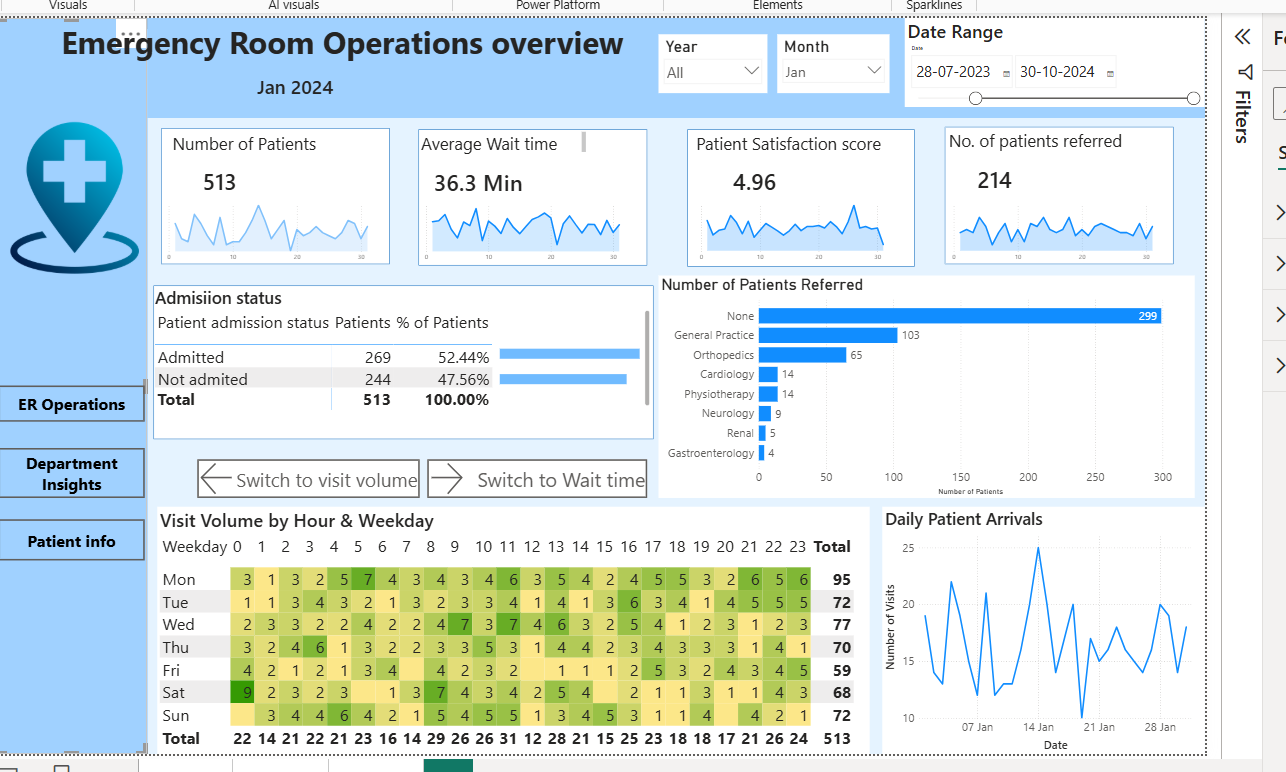

The dashboard page shown, as its layout file describes it:
{"tool":"powerbi","page":{"name":"Page 1","canvas":[2300,1400],"ordinal":0},"visuals":[{"type":"shape","title":"Number of Patients","box":[313.9,209.2,435.1,259.2],"z":0},{"type":"shape","box":[0,0,288.5,1400],"z":1000},{"type":"shape","box":[287.7,0,2013.9,190.2],"z":2000},{"type":"textbox","box":[118.9,0,1141.3,95.1],"z":3000},{"type":"card","fields":{"Values":["Hospital ER_Data.Number of Patients"]},"box":[330.5,249.7,190.2,121.3],"z":4000},{"type":"textbox","box":[330.5,211.6,340,66.6],"z":5000},{"type":"areaChart","fields":{"Y":["Count(Hospital ER_Data.Patient Id)"],"Category":["Date table.Date.Variation.Date Hierarchy.Day"]},"box":[313.9,342.4,456.5,130.8],"z":6000},{"type":"slicer","fields":{"Values":["Date table.Month"]},"box":[1486.1,30.9,214,111.8],"z":7000},{"type":"slicer","fields":{"Values":["Date table.Year"]},"box":[1260.2,30.9,206.9,111.8],"z":8000},{"type":"shape","title":"Number of Patients","box":[803.7,211.6,435.1,259.2],"z":9000},{"type":"shape","title":"Number of Patients","box":[1314.9,211.6,432.7,261.6],"z":10000},{"type":"shape","title":"Number of Patients","box":[1804.7,206.9,435.1,261.6],"z":11000},{"type":"textbox","box":[803.7,211.6,323.4,66.6],"z":12000},{"type":"card","fields":{"Values":["Hospital ER_Data.Average wait time"]},"box":[806.1,268.7,223.5,88],"z":13000},{"type":"areaChart","fields":{"Category":["Date table.Date.Variation.Date Hierarchy.Day"],"Y":["Avg(Hospital ER_Data.Patient Waittime)"]},"box":[803.7,342.4,444.6,130.8],"z":14000},{"type":"card","fields":{"Values":["Avg(Hospital ER_Data.Patient Satisfaction Score)"]},"box":[1348.2,249.7,190.2,121.3],"z":15000},{"type":"card","fields":{"Values":["Hospital ER_Data.no of patients referred"]},"box":[1804.7,244.9,190.2,121.3],"z":16000},{"type":"areaChart","fields":{"Category":["Date table.Date.Variation.Date Hierarchy.Day"],"Y":["Hospital ER_Data.no of patients referred"]},"box":[1807.1,342.4,456.5,130.8],"z":17000},{"type":"areaChart","fields":{"Category":["Date table.Date.Variation.Date Hierarchy.Day"],"Y":["Avg(Hospital ER_Data.Patient Satisfaction Score)"]},"box":[1326.8,342.4,420.9,130.8],"z":18000},{"type":"textbox","box":[1326.8,211.6,409,57.1],"z":19000},{"type":"textbox","box":[1807.1,206.9,394.7,61.8],"z":20000},{"type":"shape","box":[299.6,508.8,951.1,292.5],"z":21000},{"type":"pivotTable","title":"Admisiion status","fields":{"Values":["Hospital ER_Data.Number of Patients1","Hospital ER_Data.Number of Patients"],"Rows":["Hospital ER_Data.Patient admission status"]},"box":[297.2,508.8,951.1,242.5],"z":22000},{"type":"barChart","fields":{"Y":["Hospital ER_Data.Number of Patients"],"Category":["Hospital ER_Data.Patient admission status"]},"box":[953.5,592.1,306.7,137.9],"z":23000},{"type":"barChart","title":"Number of Patients Referred","fields":{"Category":["Hospital ER_Data.Department Referral"],"Y":["Hospital ER_Data.Number of Patients"]},"box":[1260.2,489.8,1020,423.2],"z":24000},{"type":"pivotTable","title":"Visit Volume by Hour & Weekday","fields":{"Columns":["Hospital ER_Data.Hour"],"Values":["Hospital ER_Data.Number of Patients"],"Rows":["Date table.Weekday"]},"box":[306.7,929.7,1355.3,470.8],"z":25000},{"type":"actionButton","box":[820.3,839.3,418.5,73.7],"z":27000},{"type":"actionButton","box":[382.8,839.3,423.2,73.7],"z":28000},{"type":"lineChart","title":"Daily Patient Arrivals ","fields":{"Y":["Date table.Number of Visits"],"Category":["Date table.Date"]},"box":[1685.8,929.7,613.5,470.8],"z":29000},{"type":"slicer","title":"Date Range","fields":{"Values":["Date table.Date"]},"box":[1728.6,0,570.7,168.8],"z":30000},{"type":"card","fields":{"Values":["Min(Date table.Month & Year)"]},"box":[368.5,85.6,401.8,90.4],"z":31000},{"type":"image","box":[0,192.6,299.6,299.6],"z":32000},{"type":"actionButton","box":[4.8,699.1,278.2,69],"z":32001},{"type":"actionButton","box":[4.8,817.9,278.2,95.1],"z":32002},{"type":"actionButton","box":[4.8,953.5,278.2,78.5],"z":32003}]}

Visuals, with their boxes on the page's 2300x1400 design canvas (x1, y1, x2, y2). These are canvas units, not pixel positions in the 1286x772 screenshot, which may show the page scaled, cropped or inside an application window:
"Number of Patients" shape: bbox=(314, 209, 749, 468)
shape: bbox=(0, 0, 288, 1400)
shape: bbox=(288, 0, 2302, 190)
textbox: bbox=(119, 0, 1260, 95)
card - Hospital ER_Data.Number of Patients: bbox=(330, 250, 521, 371)
textbox: bbox=(330, 212, 670, 278)
areaChart - Count(Hospital ER_Data.Patient Id) x Date table.Date.Variation.Date Hierarchy.Day: bbox=(314, 342, 770, 473)
slicer - Date table.Month: bbox=(1486, 31, 1700, 143)
slicer - Date table.Year: bbox=(1260, 31, 1467, 143)
"Number of Patients" shape: bbox=(804, 212, 1239, 471)
"Number of Patients" shape: bbox=(1315, 212, 1748, 473)
"Number of Patients" shape: bbox=(1805, 207, 2240, 468)
textbox: bbox=(804, 212, 1127, 278)
card - Hospital ER_Data.Average wait time: bbox=(806, 269, 1030, 357)
areaChart - Date table.Date.Variation.Date Hierarchy.Day x Avg(Hospital ER_Data.Patient Waittime): bbox=(804, 342, 1248, 473)
card - Avg(Hospital ER_Data.Patient Satisfaction Score): bbox=(1348, 250, 1538, 371)
card - Hospital ER_Data.no of patients referred: bbox=(1805, 245, 1995, 366)
areaChart - Date table.Date.Variation.Date Hierarchy.Day x Hospital ER_Data.no of patients referred: bbox=(1807, 342, 2264, 473)
areaChart - Date table.Date.Variation.Date Hierarchy.Day x Avg(Hospital ER_Data.Patient Satisfaction Score): bbox=(1327, 342, 1748, 473)
textbox: bbox=(1327, 212, 1736, 269)
textbox: bbox=(1807, 207, 2202, 269)
shape: bbox=(300, 509, 1251, 801)
"Admisiion status" pivotTable: bbox=(297, 509, 1248, 751)
barChart - Hospital ER_Data.Number of Patients x Hospital ER_Data.Patient admission status: bbox=(954, 592, 1260, 730)
"Number of Patients Referred" barChart: bbox=(1260, 490, 2280, 913)
"Visit Volume by Hour & Weekday" pivotTable: bbox=(307, 930, 1662, 1400)
actionButton: bbox=(820, 839, 1239, 913)
actionButton: bbox=(383, 839, 806, 913)
"Daily Patient Arrivals " lineChart: bbox=(1686, 930, 2299, 1400)
"Date Range" slicer: bbox=(1729, 0, 2299, 169)
card - Min(Date table.Month & Year): bbox=(368, 86, 770, 176)
image: bbox=(0, 193, 300, 492)
actionButton: bbox=(5, 699, 283, 768)
actionButton: bbox=(5, 818, 283, 913)
actionButton: bbox=(5, 954, 283, 1032)
